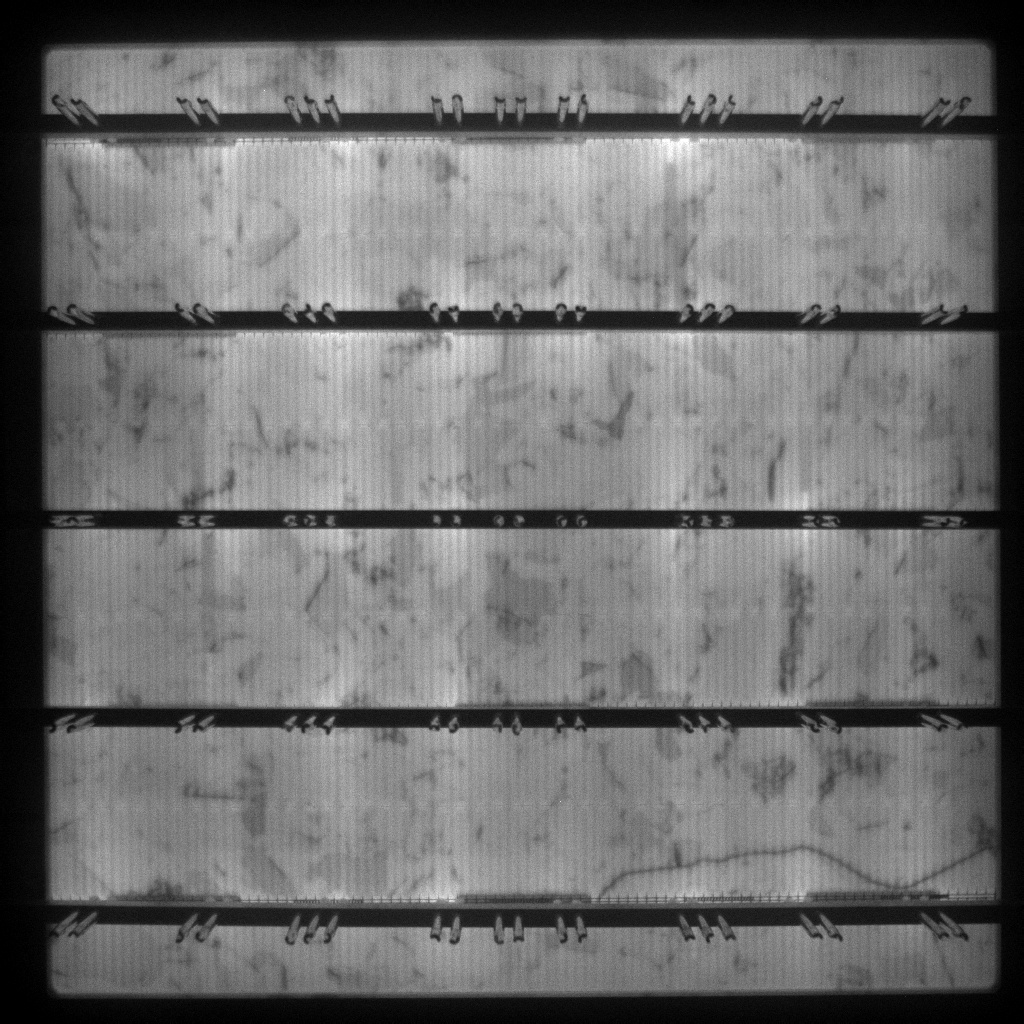crack: (598, 842, 994, 889)
